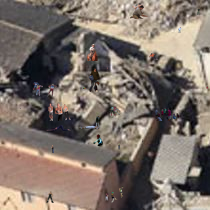Human: (28, 82, 57, 99), (72, 115, 107, 129), (48, 102, 71, 121), (153, 107, 179, 121), (128, 3, 148, 19), (88, 67, 100, 92), (87, 44, 100, 61), (46, 125, 71, 131), (105, 192, 118, 203), (109, 107, 121, 118), (93, 134, 103, 146), (46, 191, 54, 203), (149, 53, 158, 60), (119, 186, 124, 198), (178, 27, 184, 33), (50, 145, 54, 153), (197, 8, 200, 15), (118, 142, 120, 150), (83, 87, 86, 89), (206, 86, 208, 89), (142, 139, 143, 143), (107, 67, 108, 71), (74, 108, 75, 111), (20, 108, 21, 109)
